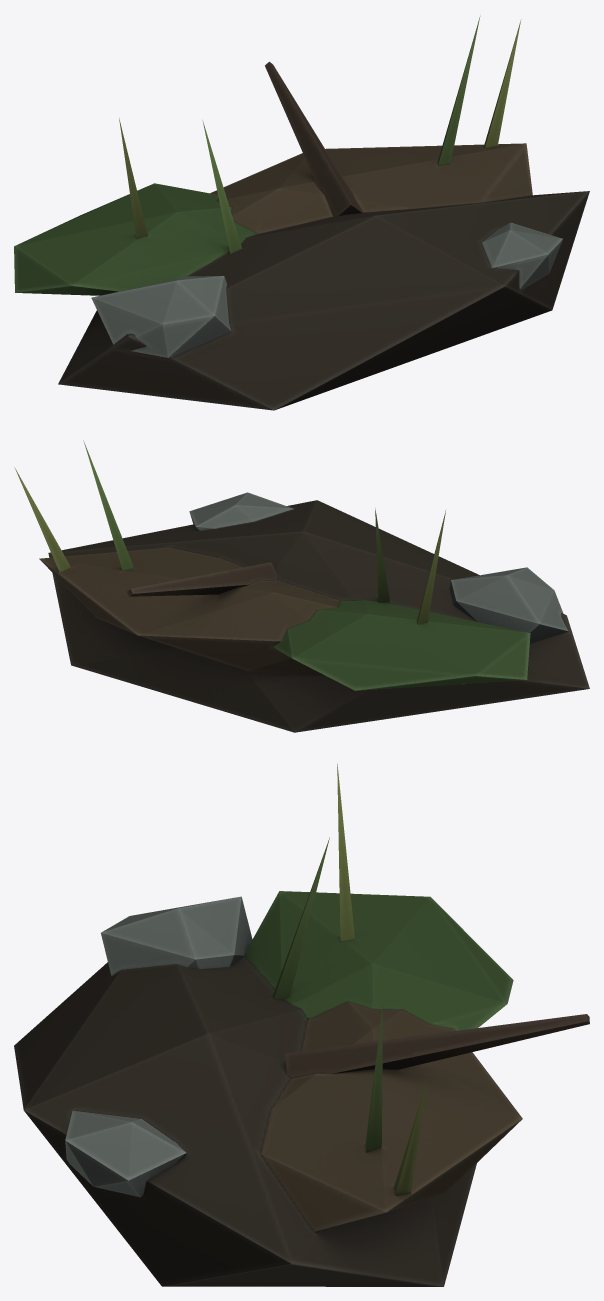
File: decor_shore_a.glb
The picture shows the model from 3 angles, top to bottom: view 1: azimuth 30°, elevation 25°; view 2: azimuth 150°, elevation 25°; view 3: azimuth 270°, elevation 25°; orthographic projection. The views are drawn at different scales.
Parts seen in each view (by area): view 1: decor_shore_a; view 2: decor_shore_a; view 3: decor_shore_a.
Part boxes in pixels (left/top/right/bottom): decor_shore_a: left=14, top=16, right=589, bottom=410; decor_shore_a: left=14, top=440, right=589, bottom=732; decor_shore_a: left=14, top=764, right=589, bottom=1286.
Bounding box in the file's own units: 1.46 × 0.6548 × 1.01.
Materials: 1 (1 with a texture image).
